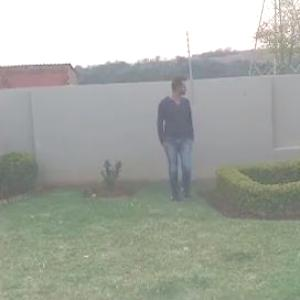follow: (154, 72, 195, 210)
